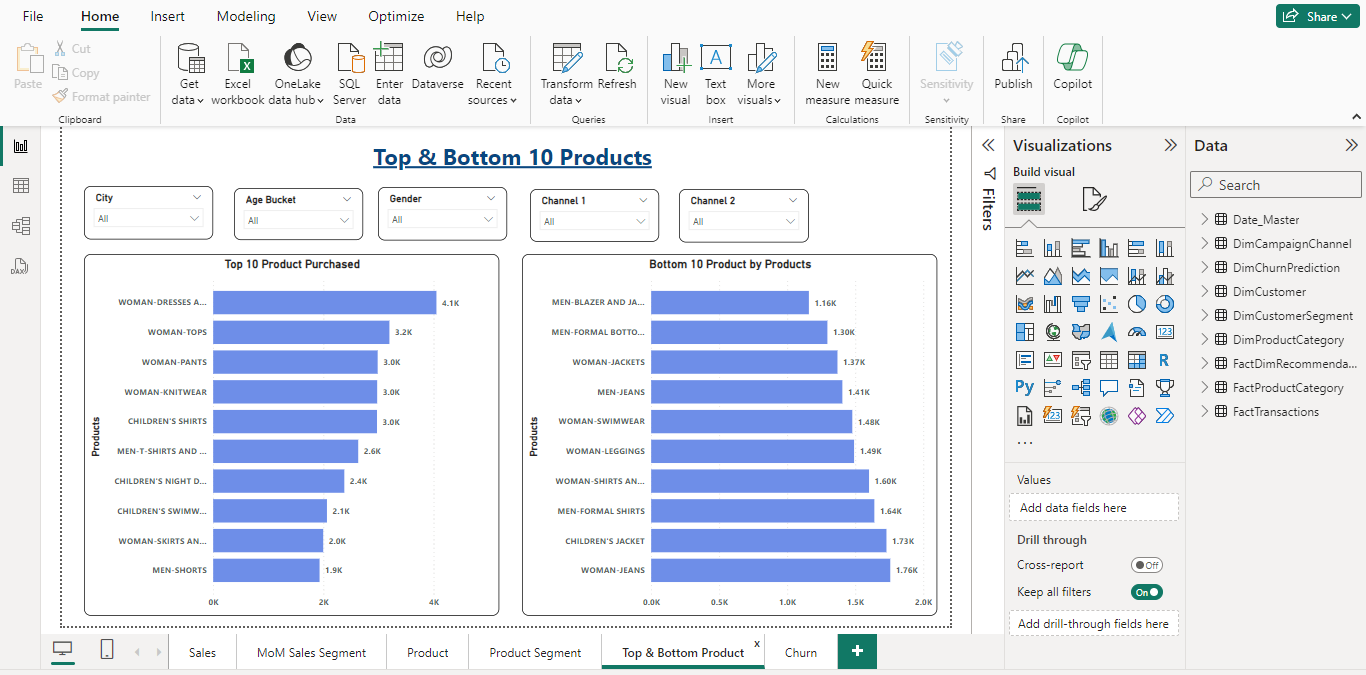

The dashboard page shown, as its layout file describes it:
{"tool":"powerbi","page":{"name":"Top & Bottom Product","canvas":[1280,720],"ordinal":4},"visuals":[{"type":"barChart","fields":{"Y":["FactProductCategory.Bottom_5_Product"],"Category":["DimProductCategory.Products"]},"box":[662.9,185,597.9,521.2],"z":0},{"type":"barChart","title":"Top 10 Product Purchased","fields":{"Y":["FactProductCategory.Top_5_Product"],"Category":["DimProductCategory.Products"]},"box":[31,185,597.9,521.2],"z":1000},{"type":"slicer","fields":{"Values":["DimCustomer.CITY"]},"box":[31,86.1,186,76.8],"z":2000},{"type":"slicer","fields":{"Values":["DimCustomer.Age Bucket"]},"box":[248,89.1,186,75.3],"z":3000},{"type":"slicer","fields":{"Values":["DimCustomer.GENDER"]},"box":[454.7,87.6,186,76.8],"z":4000},{"type":"slicer","fields":{"Values":["DimCampaignChannel.RECOMMENDED CHANNEL 1"]},"box":[673.5,91.2,186.5,76.1],"z":5000},{"type":"slicer","fields":{"Values":["DimCampaignChannel.CHANNEL 2"]},"box":[888.8,90.5,187.5,76.8],"z":6000},{"type":"textbox","box":[436.3,15.8,424.8,64.8],"z":7000}]}

Visuals, with their boxes on the page's 1280x720 design canvas (x1, y1, x2, y2). These are canvas units, not pixel positions in the 1366x675 screenshot, which may show the page scaled, cropped or inside an application window:
barChart - FactProductCategory.Bottom_5_Product x DimProductCategory.Products: [663,185,1261,706]
"Top 10 Product Purchased" barChart: [31,185,629,706]
slicer - DimCustomer.CITY: [31,86,217,163]
slicer - DimCustomer.Age Bucket: [248,89,434,164]
slicer - DimCustomer.GENDER: [455,88,641,164]
slicer - DimCampaignChannel.RECOMMENDED CHANNEL 1: [674,91,860,167]
slicer - DimCampaignChannel.CHANNEL 2: [889,90,1076,167]
textbox: [436,16,861,81]
